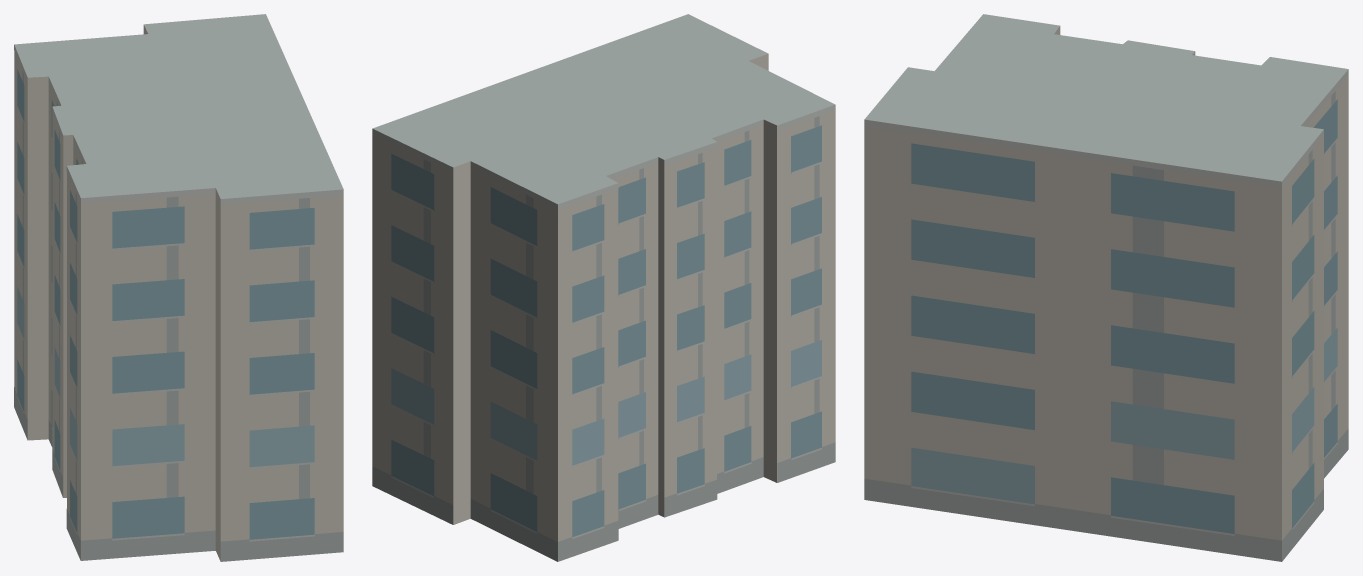
File: survey-upis-32890937.glb
3 renders of one model, left to right at view 1: azimuth 30°, elevation 25°; view 2: azimuth 150°, elevation 25°; view 3: azimuth 270°, elevation 25°, orthographic. The views are drawn at different scales.
Visible parts, largest first — view 1: survey-upis-32890937.tmp; view 2: survey-upis-32890937.tmp; view 3: survey-upis-32890937.tmp.
Part boxes in pixels (bbox=[...]): survey-upis-32890937.tmp: bbox=[14, 14, 343, 561]; survey-upis-32890937.tmp: bbox=[372, 14, 835, 561]; survey-upis-32890937.tmp: bbox=[864, 14, 1348, 561].
Size of the model in its own units: 14.37 by 15.2 by 17.55.
